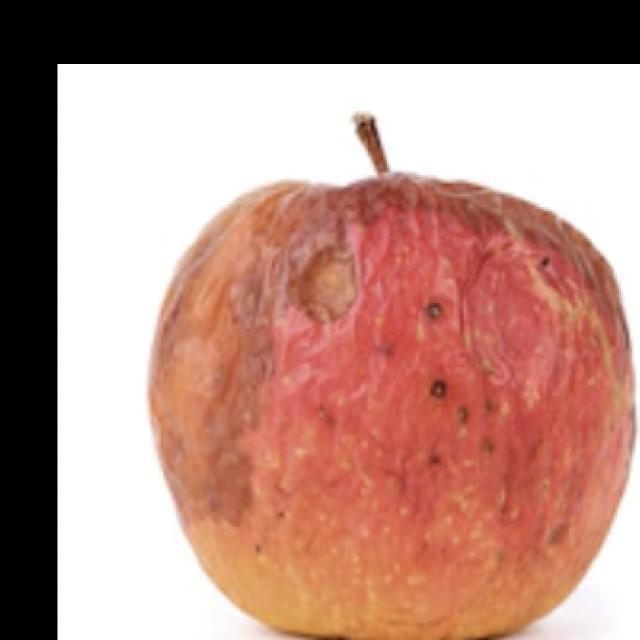Rotten: (161, 176, 628, 640)
